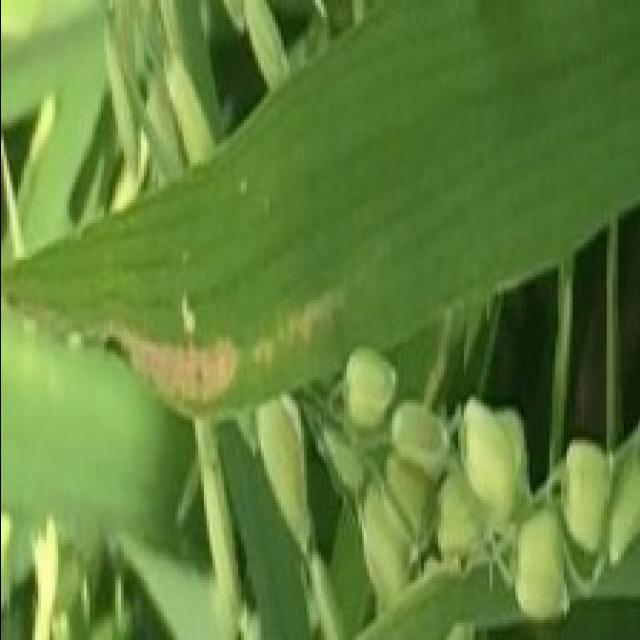Unhealthy: (87, 319, 241, 403), (246, 279, 343, 369)
